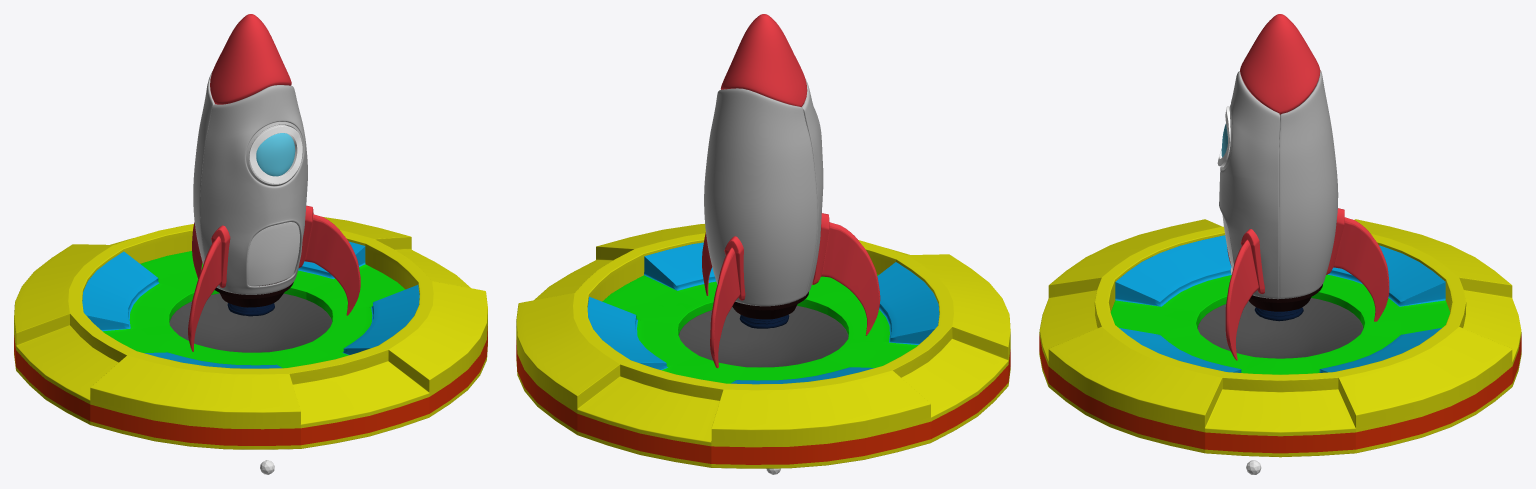
Rendered from Rocket.fbx.
3 views of the same model, side by side, from view 1: azimuth 30°, elevation 25°; view 2: azimuth 150°, elevation 25°; view 3: azimuth 270°, elevation 25° (orthographic). The views are drawn at different scales.
Visible parts, largest first — view 1: Platform_Outer, Platform_Inner, FrontBody, Platform_Centre, Cone, FIn_1, Door, Fin_3, BackBody, Window, Window_Frame, Propulsion; view 2: Platform_Outer, Platform_Inner, BackBody, Platform_Centre, Cone, Fin_3, Fin_2, FrontBody, Propulsion; view 3: Platform_Outer, Platform_Inner, BackBody, FrontBody, Platform_Centre, Cone, Fin_2, FIn_1, Propulsion.
Boxes of the visible parts, x1,y1,x2,y2 form: Platform_Outer: (14,216,487,449); Platform_Inner: (82,241,419,368); FrontBody: (200,85,307,294); Platform_Centre: (169,293,332,352); Cone: (210,14,291,104); FIn_1: (299,205,360,315); Door: (247,222,299,286); Fin_3: (188,225,230,351); BackBody: (193,71,288,264); Window: (256,133,295,176); Window_Frame: (249,125,302,183); Propulsion: (215,279,293,316); Platform_Outer: (516,224,1010,468); Platform_Inner: (587,242,939,384); BackBody: (704,88,817,306); Platform_Centre: (678,305,848,367); Cone: (720,14,807,106); Fin_3: (812,213,880,335); Fin_2: (710,236,745,368); FrontBody: (802,79,823,295); Propulsion: (732,292,808,328); Platform_Outer: (1039,219,1521,457); Platform_Inner: (1110,235,1449,374); BackBody: (1279,70,1338,298); FrontBody: (1219,71,1279,299); Platform_Centre: (1197,298,1363,358); Cone: (1240,14,1320,114); Fin_2: (1326,208,1389,321); FIn_1: (1225,229,1264,360); Propulsion: (1249,284,1322,321).
Size of the model in its own units: 6275 by 6577 by 6275.
